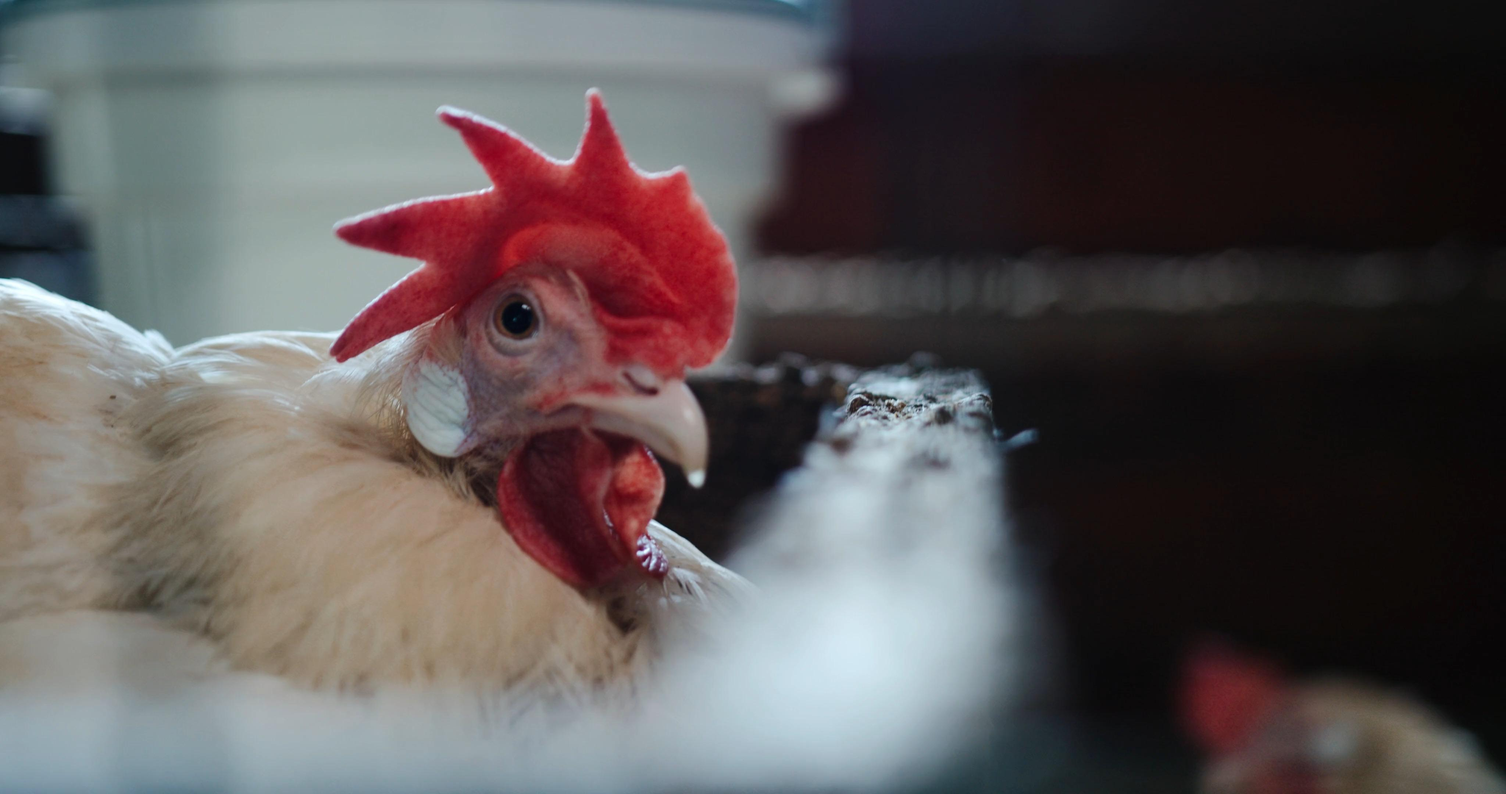Normal: (41, 101, 794, 637)
